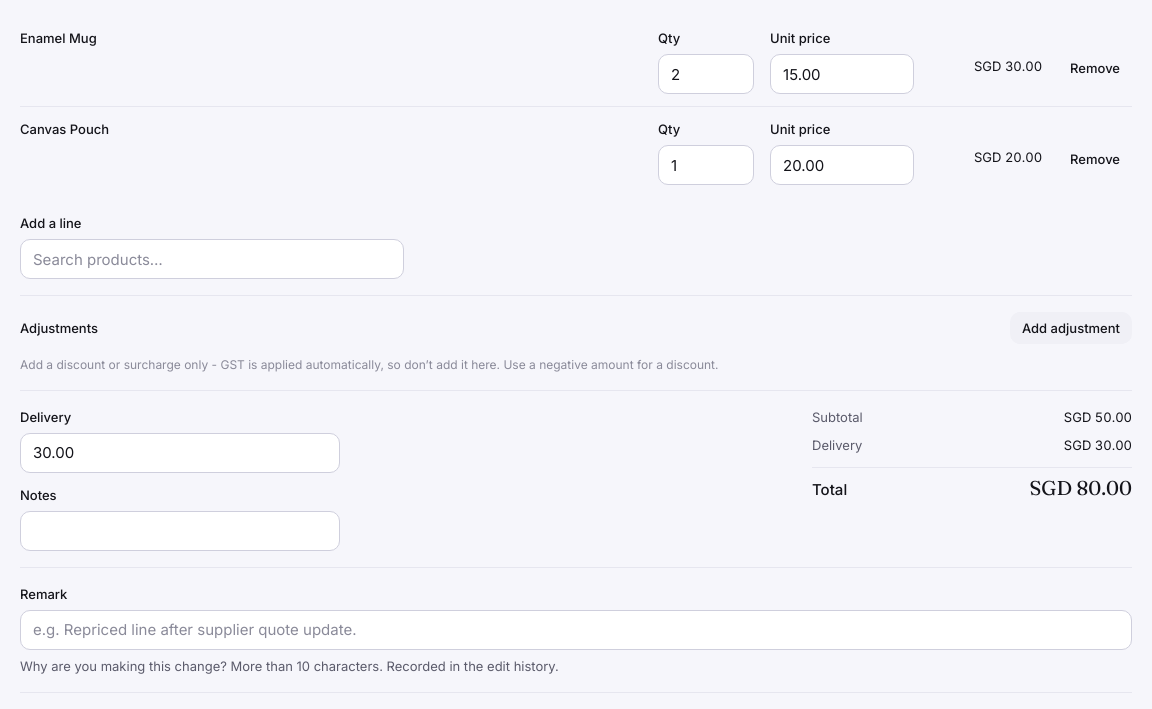
Test: shows a rejected unit price against the field and keeps the edits
The image size is (1152, 709).
Replace the text in the 1st number field labelled "Unit price" with "1" at x=842, y=74, box 770,54 -> 914,94
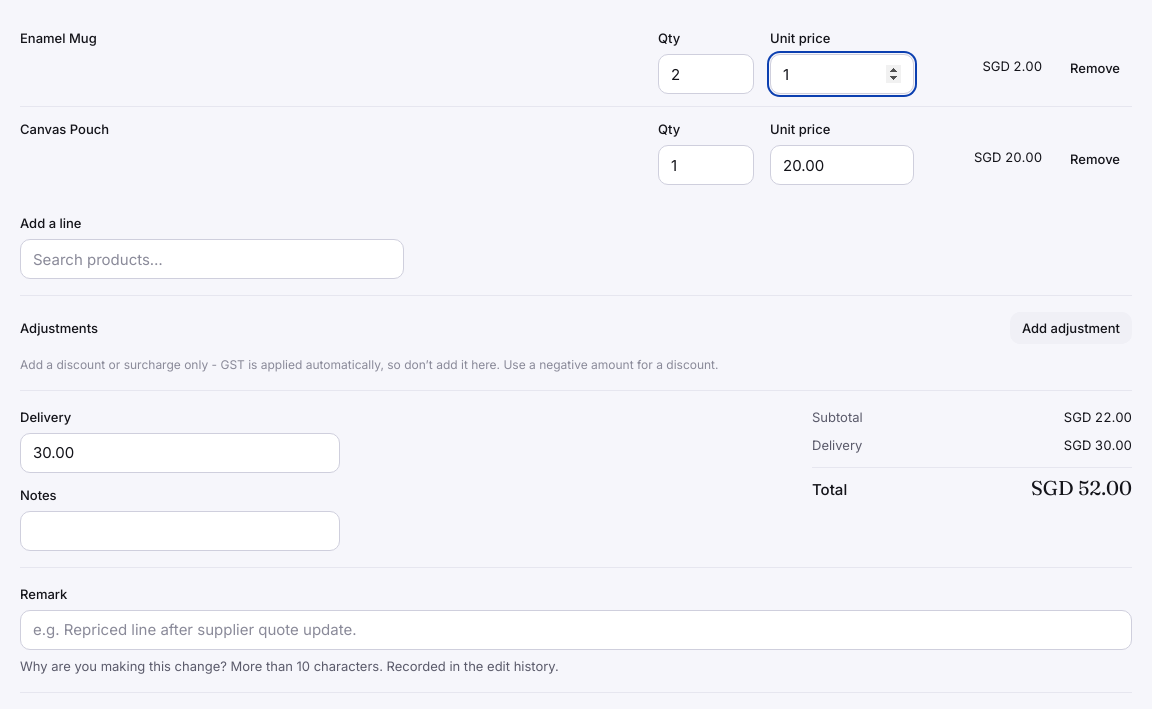
Type "Adjusting per supplier update." into the field labelled "Remark" at x=576, y=630, box 20,610 -> 1132,650
(page scrolled)
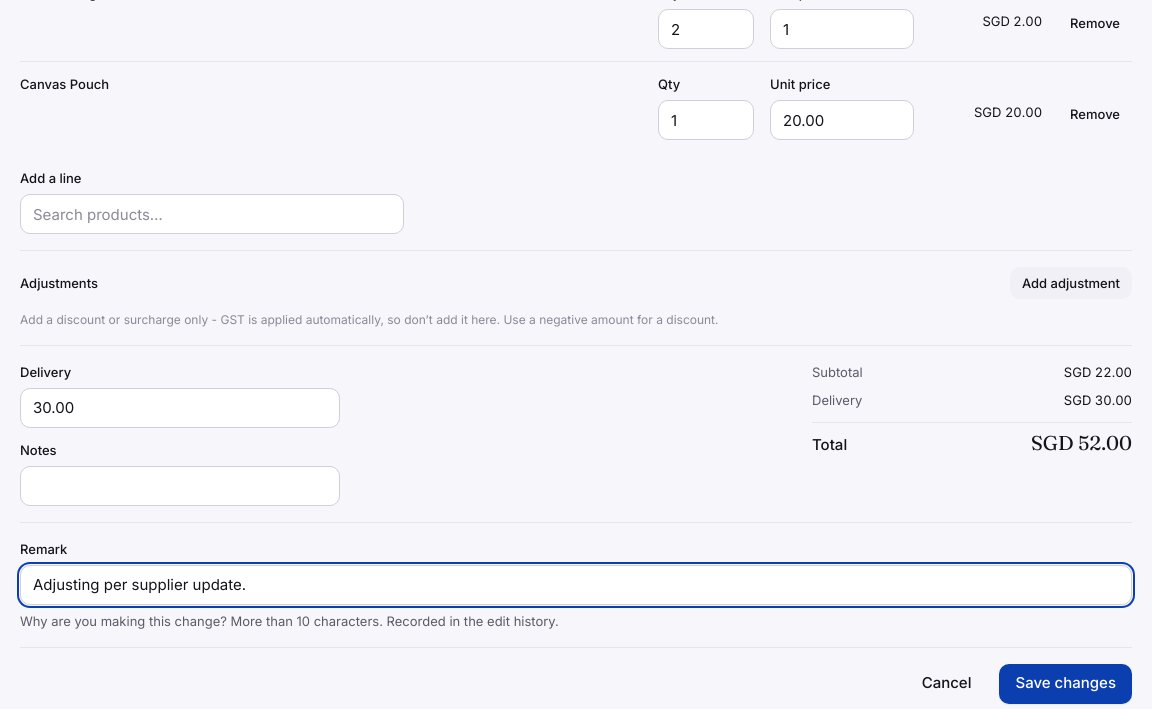
Click the button "Save changes" at x=1066, y=684, box 1000,664 -> 1132,704
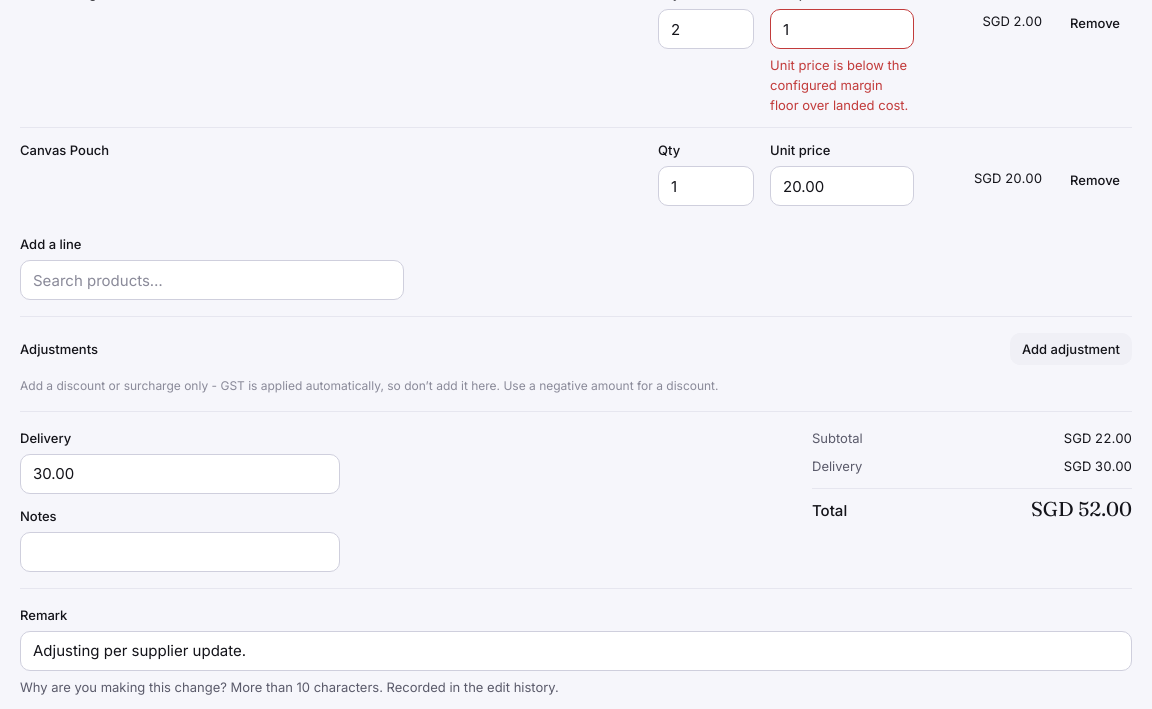
Expected: the message shows "below the configured margin floor", 770,57 -> 908,113
